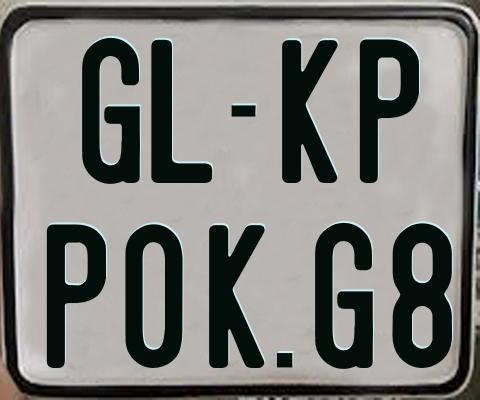0: (123, 221, 185, 366)
8: (389, 220, 452, 367)
G: (80, 35, 142, 184), (313, 220, 372, 371)
K: (208, 222, 270, 368), (280, 39, 340, 187)
L: (149, 39, 212, 182)
P: (47, 221, 110, 367), (359, 36, 419, 184)
